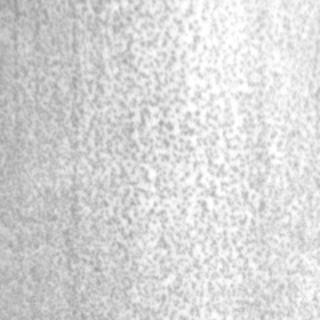pitted_surface: (0, 1, 316, 316)
